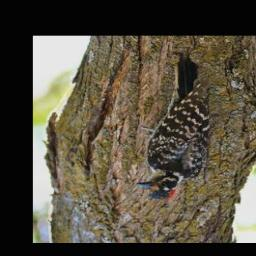Woodpecker: (138, 50, 206, 203)
